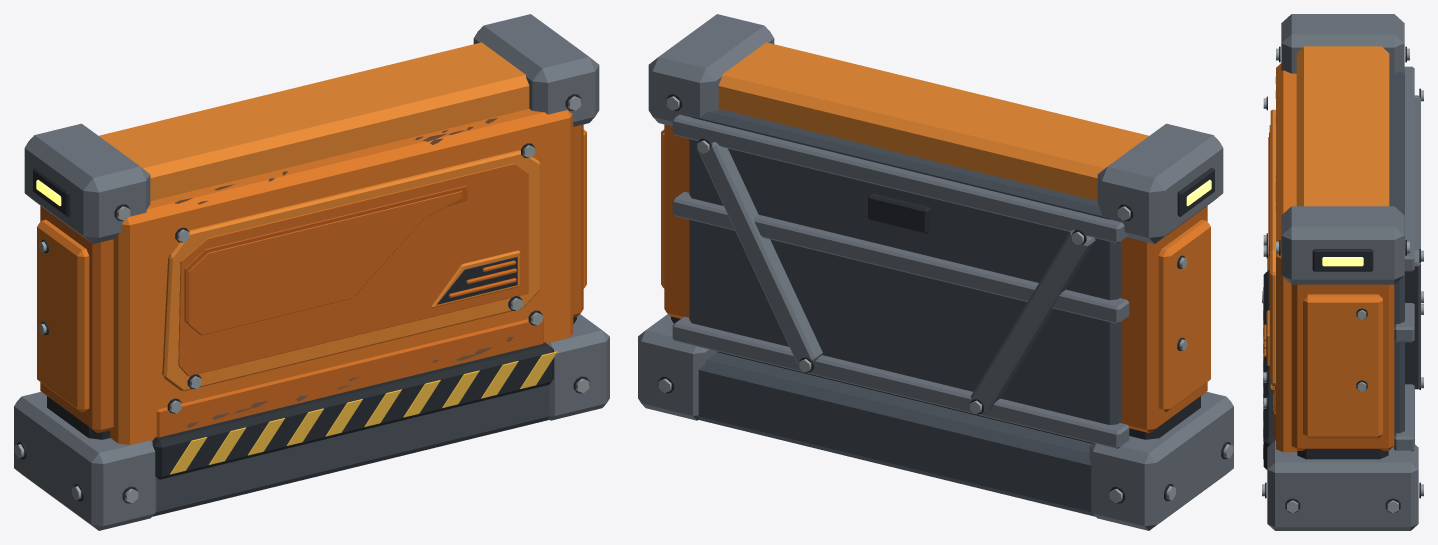
File: wsc-prop-066-orange-cover-barrier.glb
3 views of the same model, side by side, from view 1: azimuth 30°, elevation 25°; view 2: azimuth 150°, elevation 25°; view 3: azimuth 270°, elevation 25° (orthographic). The views are drawn at different scales.
Visible parts, largest first — view 1: orange4, orange, orange3, steel, deep, gray, hazard, orange2, bright, chip; view 2: gray, steel, orange3, orange4, orange, deep, bright; view 3: steel, orange, orange3, orange4, deep, gray, bright, amber.
Boxes of the visible parts, x1,y1,x2,y2 form: orange4: (40,124,583,437); orange: (37,109,586,444); orange3: (99,42,540,390); steel: (14,14,609,530); deep: (17,94,589,503); gray: (152,385,549,516); hazard: (170,351,557,474); orange2: (184,185,467,323); bright: (14,96,589,503); chip: (174,118,513,427); gray: (689,108,1120,516); steel: (638,14,1233,530); orange3: (718,42,1148,200); orange4: (664,124,1207,433); orange: (661,129,1210,412); deep: (658,94,1230,503); bright: (658,96,1233,503); steel: (1267,14,1420,530); orange: (1276,63,1382,452); orange3: (1266,46,1389,389); orange4: (1263,125,1394,450); deep: (1263,46,1420,512); gray: (1389,71,1414,443); bright: (1262,48,1423,513); amber: (1322,257,1363,266).
Bounding box in the file's own units: 2.03 × 1.27 × 0.612.
